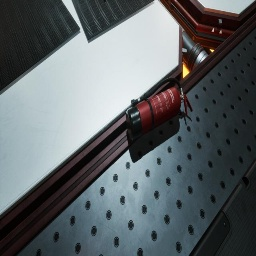FireExtinguisher ]: (126, 78, 193, 142)
